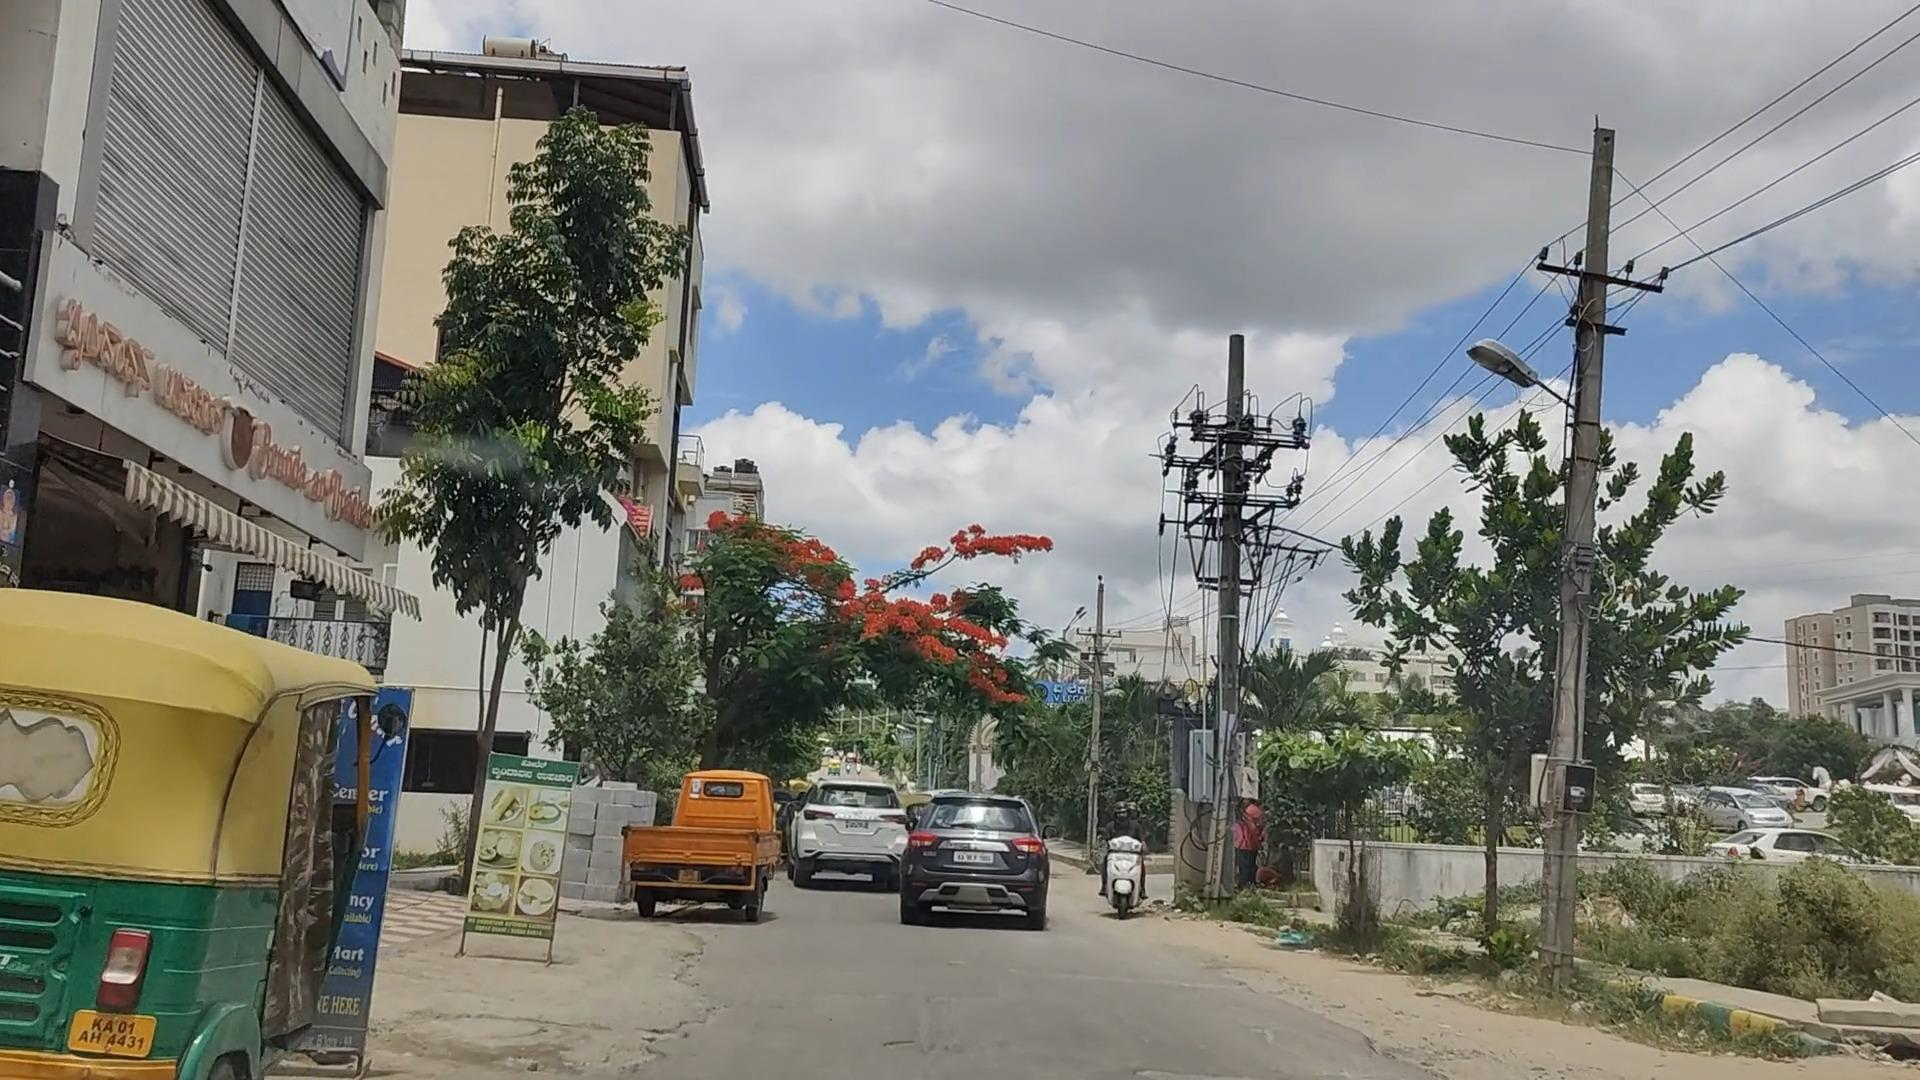RoadDamages: (1085, 961, 1497, 1080), (397, 982, 641, 1080), (607, 916, 769, 1058)
